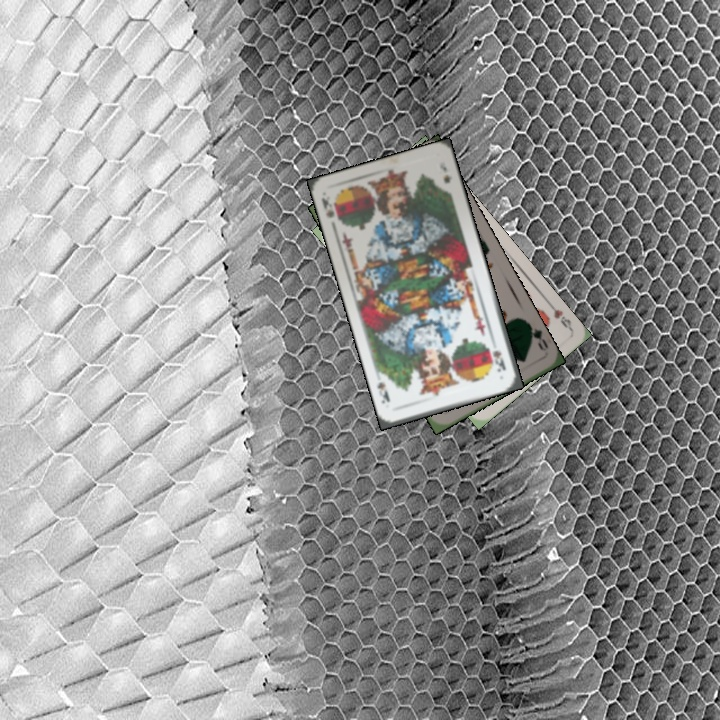GO: (523, 318, 551, 354)
H9: (544, 297, 574, 332)
SK: (488, 346, 508, 374), (317, 193, 337, 220)
